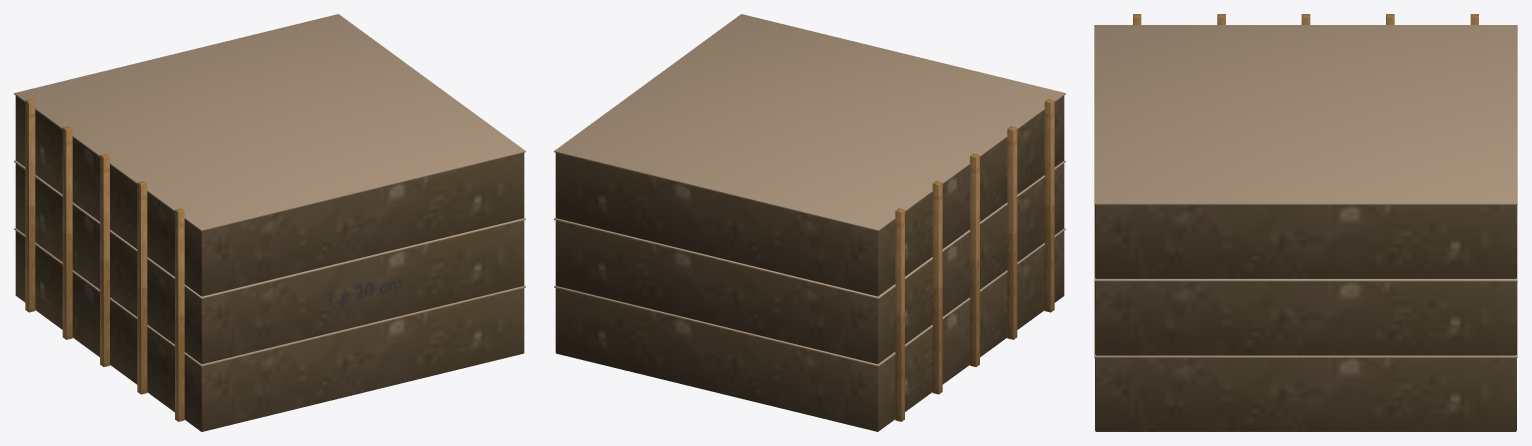
Rendered from TER-ATR-001_lod1.glb.
3 views of the same model, side by side, from view 1: azimuth 30°, elevation 25°; view 2: azimuth 150°, elevation 25°; view 3: azimuth 270°, elevation 25° (orthographic). The views are drawn at different scales.
Visible parts, largest first — view 1: TER-ATR-001_junta2, TER-ATR-001_camada0, TER-ATR-001_camada2, TER-ATR-001_camada1, TER-ATR-001_estaca3, TER-ATR-001_estaca1, TER-ATR-001_estaca4, TER-ATR-001_estaca0, TER-ATR-001_estaca2, TER-ATR-001_junta0, TER-ATR-001_junta1; view 2: TER-ATR-001_junta2, TER-ATR-001_camada1, TER-ATR-001_camada2, TER-ATR-001_camada0, TER-ATR-001_estaca1, TER-ATR-001_estaca0, TER-ATR-001_estaca3, TER-ATR-001_estaca4, TER-ATR-001_estaca2, TER-ATR-001_junta0, TER-ATR-001_junta1; view 3: TER-ATR-001_junta2, TER-ATR-001_camada1, TER-ATR-001_camada0, TER-ATR-001_camada2, TER-ATR-001_junta0, TER-ATR-001_junta1.
Part boxes in pixels (x1,y1,x2,y2): TER-ATR-001_junta2: (14, 14, 525, 231); TER-ATR-001_camada0: (15, 231, 524, 431); TER-ATR-001_camada2: (15, 95, 524, 296); TER-ATR-001_camada1: (15, 163, 524, 364); TER-ATR-001_estaca3: (62, 126, 72, 339); TER-ATR-001_estaca1: (137, 181, 147, 394); TER-ATR-001_estaca4: (25, 99, 35, 312); TER-ATR-001_estaca0: (175, 208, 184, 421); TER-ATR-001_estaca2: (100, 153, 109, 366); TER-ATR-001_junta0: (14, 228, 525, 366); TER-ATR-001_junta1: (14, 160, 525, 298); TER-ATR-001_junta2: (554, 14, 1065, 231); TER-ATR-001_camada1: (555, 163, 1064, 364); TER-ATR-001_camada2: (555, 95, 1064, 296); TER-ATR-001_camada0: (555, 231, 1064, 431); TER-ATR-001_estaca1: (1007, 126, 1017, 339); TER-ATR-001_estaca0: (1044, 99, 1054, 312); TER-ATR-001_estaca3: (932, 181, 942, 394); TER-ATR-001_estaca4: (895, 208, 904, 421); TER-ATR-001_estaca2: (970, 153, 979, 366); TER-ATR-001_junta0: (554, 228, 1065, 366); TER-ATR-001_junta1: (554, 160, 1065, 298); TER-ATR-001_junta2: (1094, 25, 1517, 204); TER-ATR-001_camada1: (1095, 281, 1516, 355); TER-ATR-001_camada0: (1095, 358, 1516, 431); TER-ATR-001_camada2: (1095, 205, 1516, 278); TER-ATR-001_junta0: (1094, 281, 1517, 357); TER-ATR-001_junta1: (1094, 205, 1517, 281).
Size of the model in its own units: 1.02 by 0.62 by 1.
6 materials, 2 textured.
